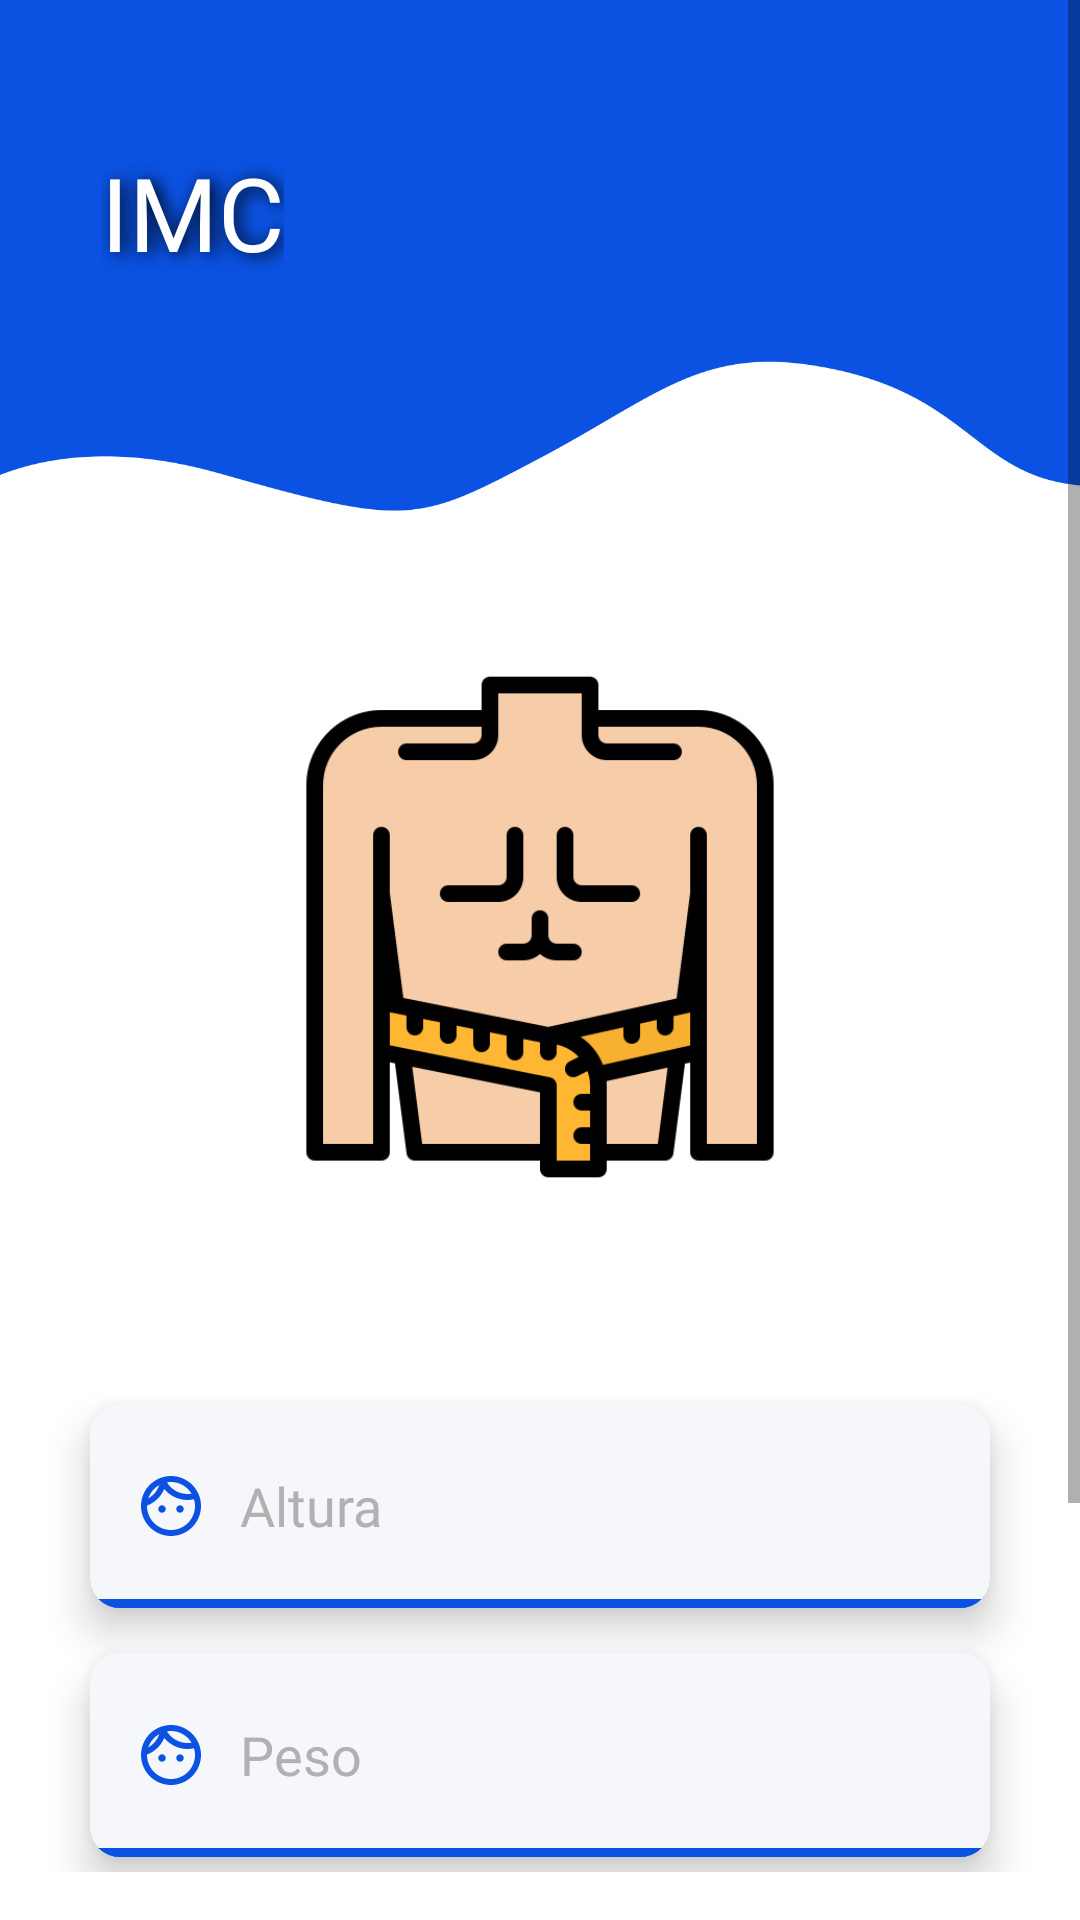

Point at icon controls on the screen. Image size 1080px x 1920px, points as (x=x, y=y).
cara: (x=171, y=1506), (x=171, y=1755)
